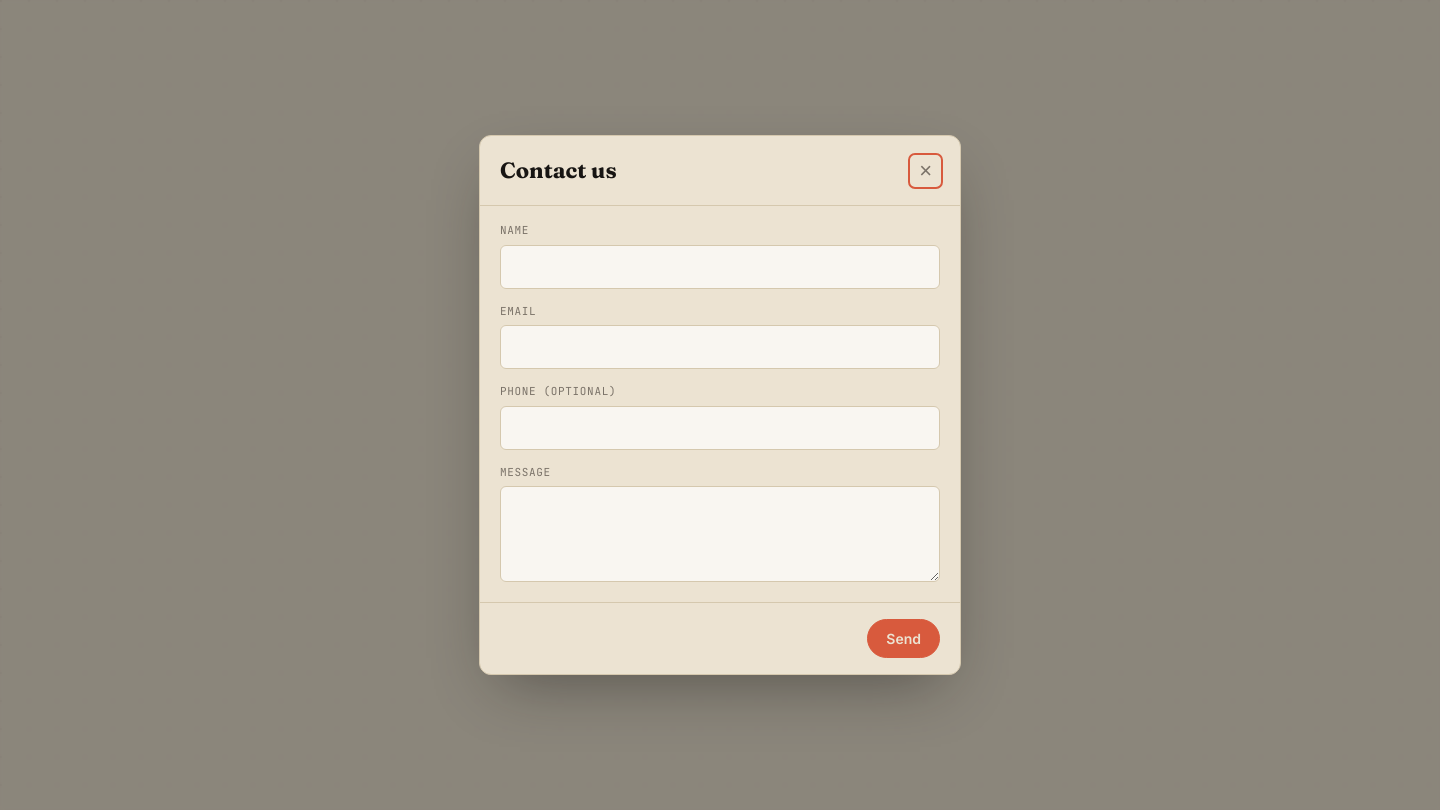
Scenario: ContactDialog › submits the form payload to /api/contact and shows success
In the field labelled "Name": x=720, y=266 [500,244,940,288], type "Ada"
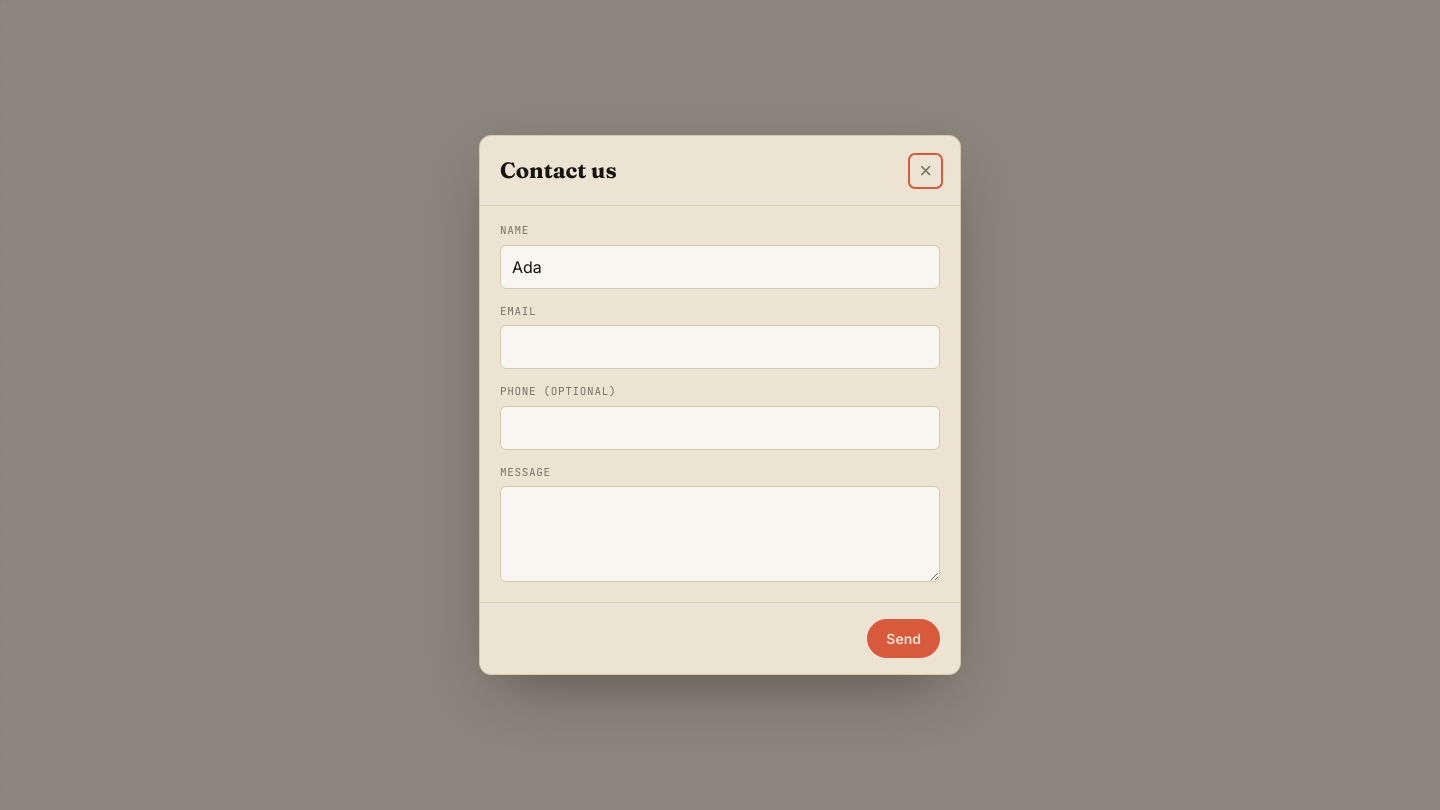
In the field labelled "Email": x=720, y=347 [500,325,940,369], type "ada@example.com"
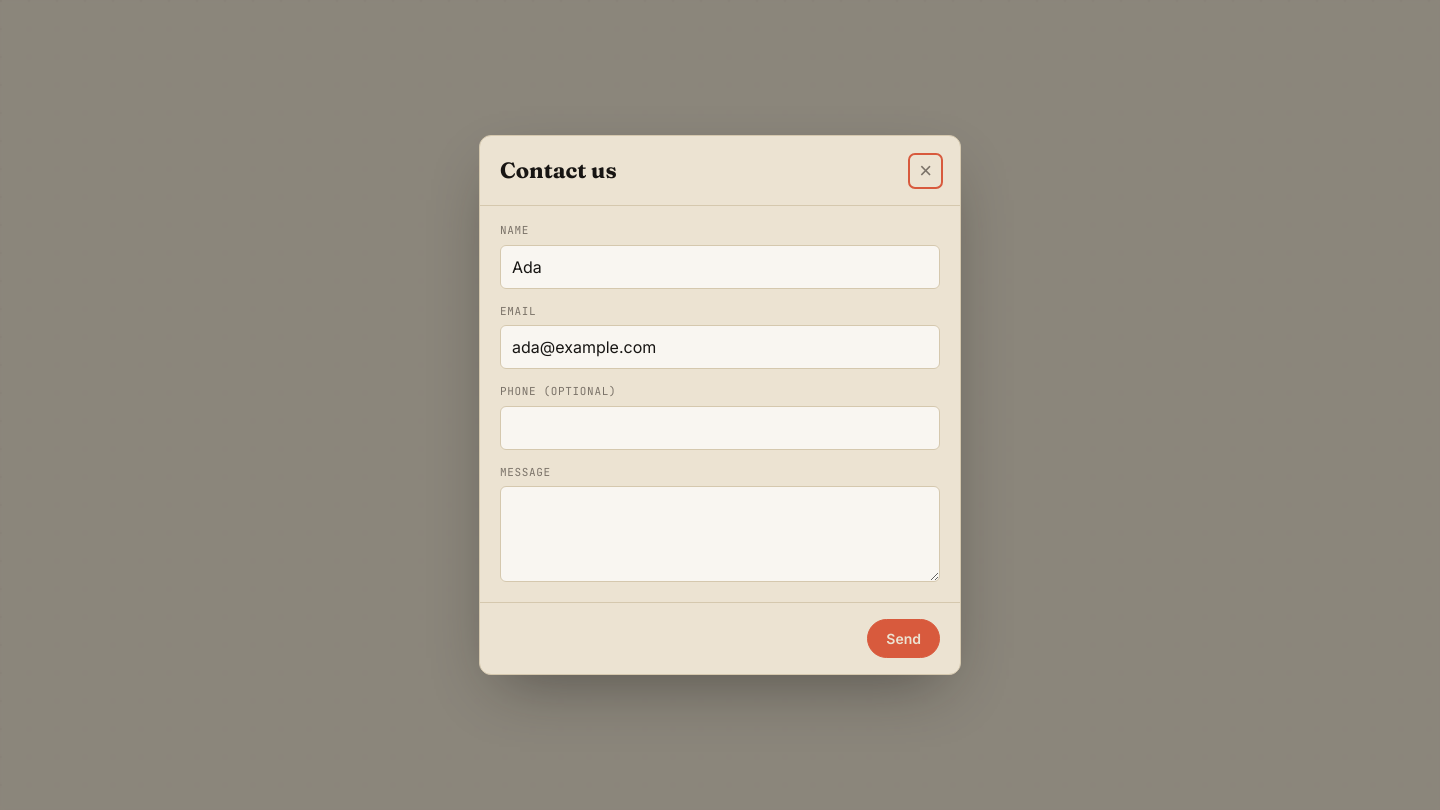
In the text box labelled "Message": x=720, y=534 [500,486,940,582], type "hello there"
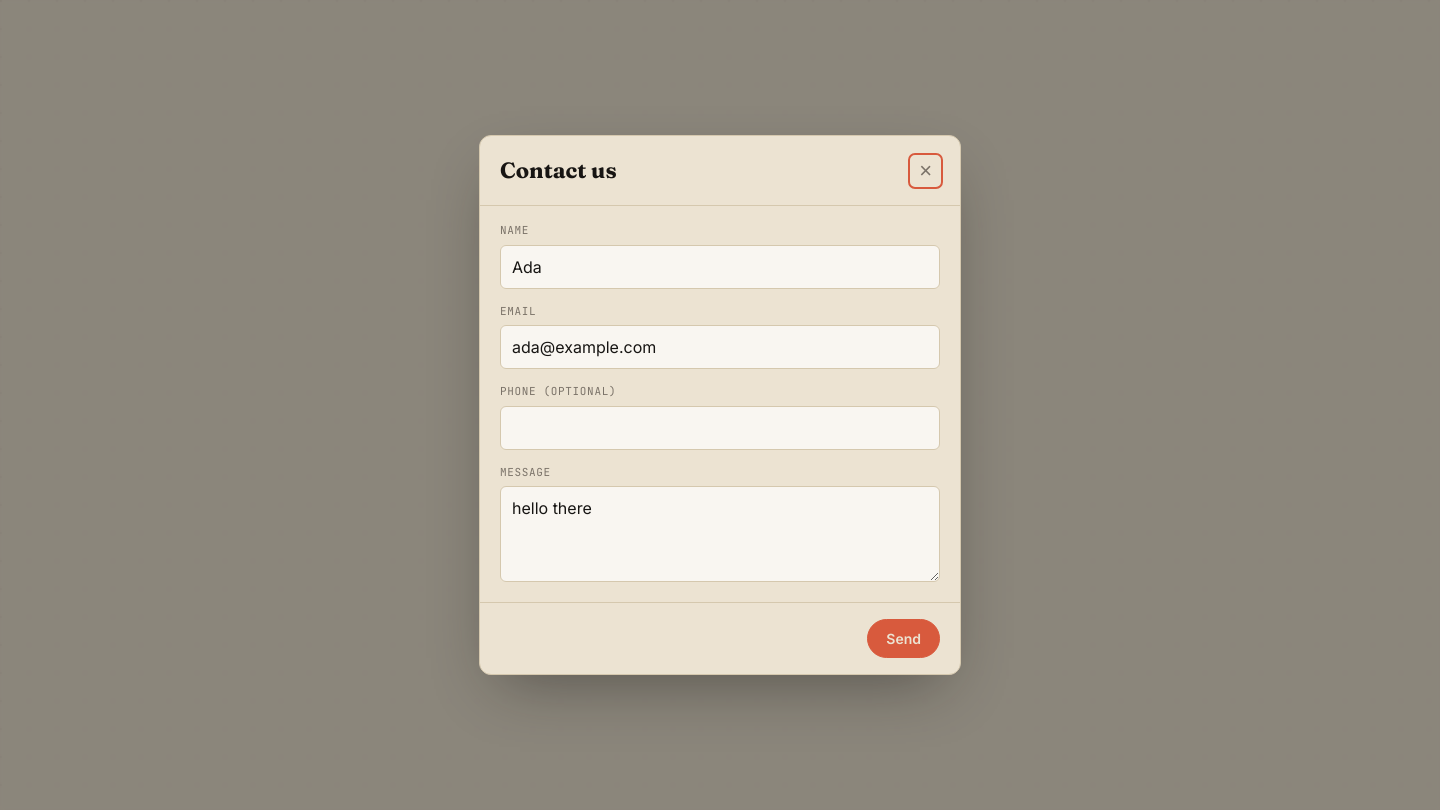
Click the button "Send": x=904, y=638 [867,619,940,658]
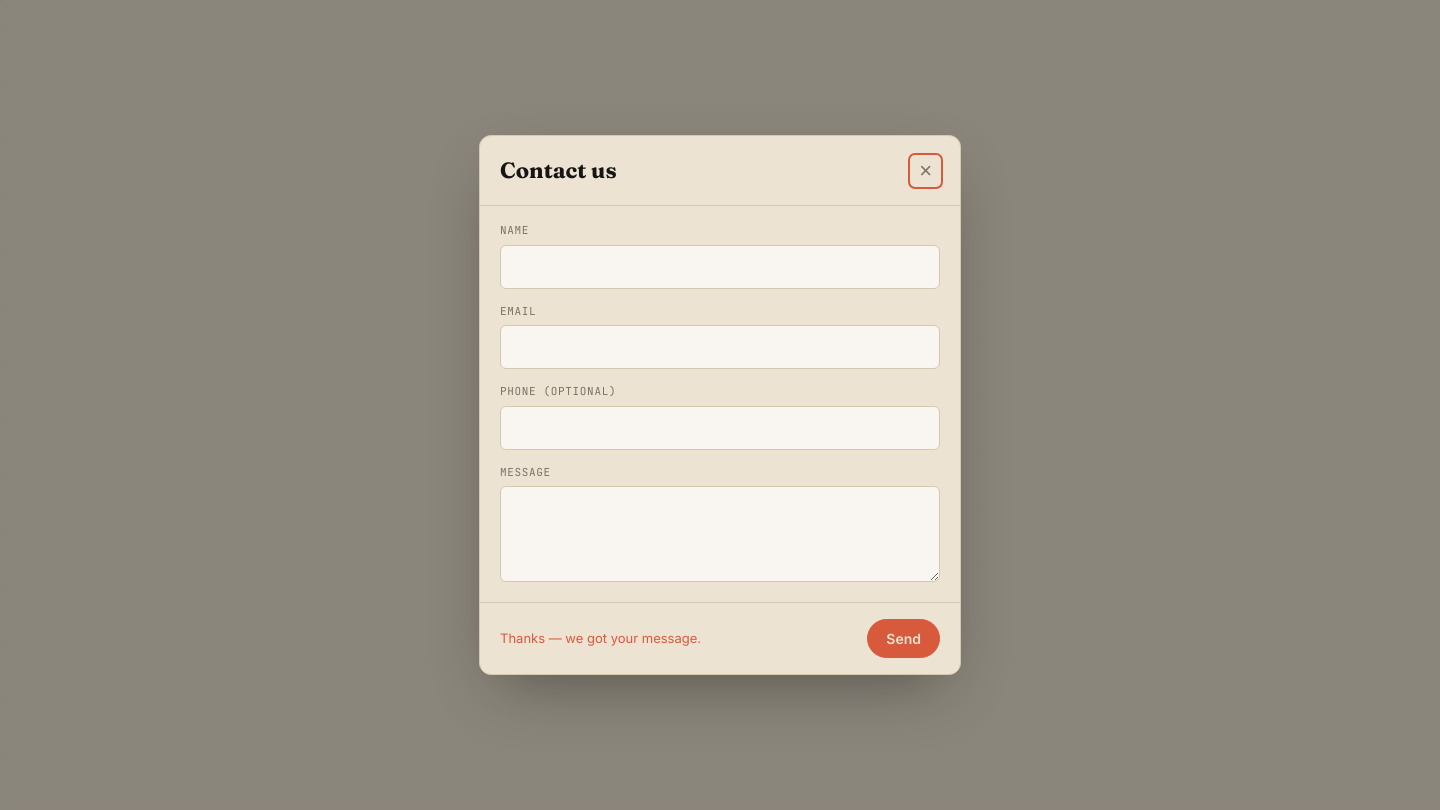
Check: the text "Thanks — we got your message." is shown, box [500,630,701,646]
